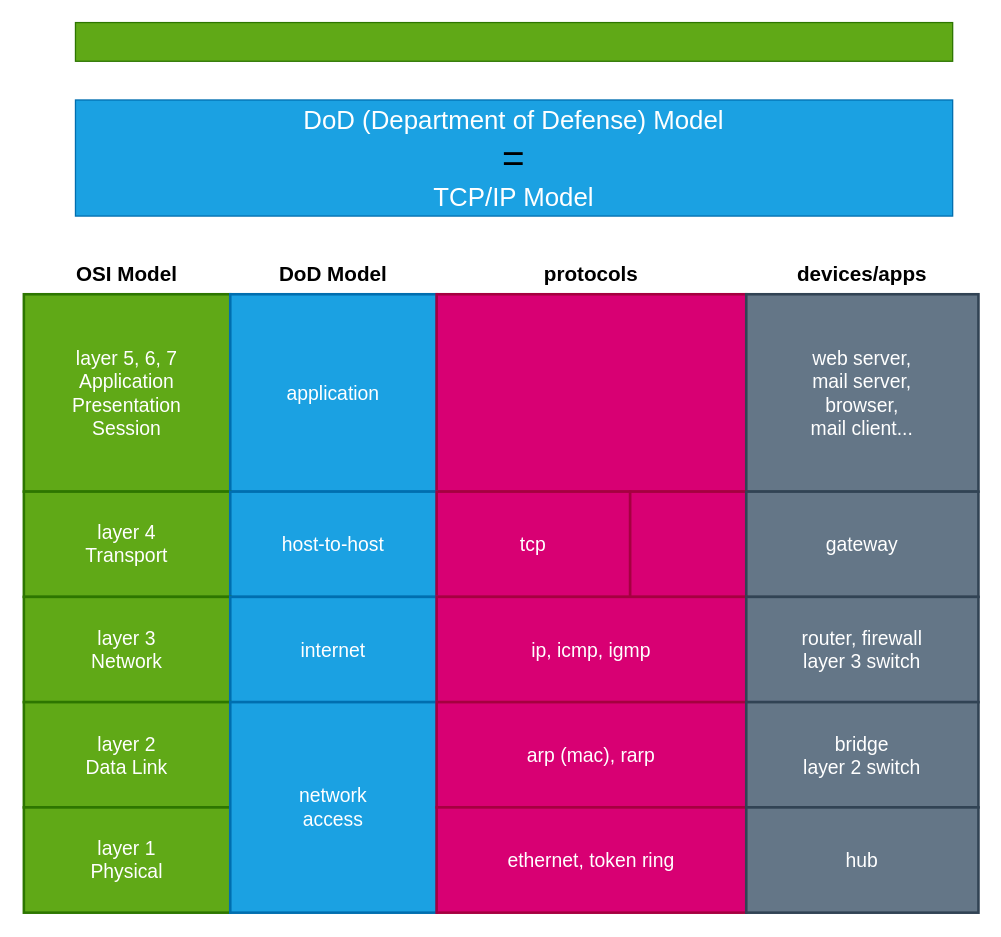
This 1001x937 diagram has some shape labels left out. Here are the shapes that lost their labels. From the top down, the centre of each, then its label:
At (x=513, y=41): "OSI (Open Systems Interconnection) Model".
At (x=591, y=392): "dns, dhcp, ntp, snmp, https, ftp, ssh, telnet, http, pop3... others".
At (x=687, y=544): "udp".
